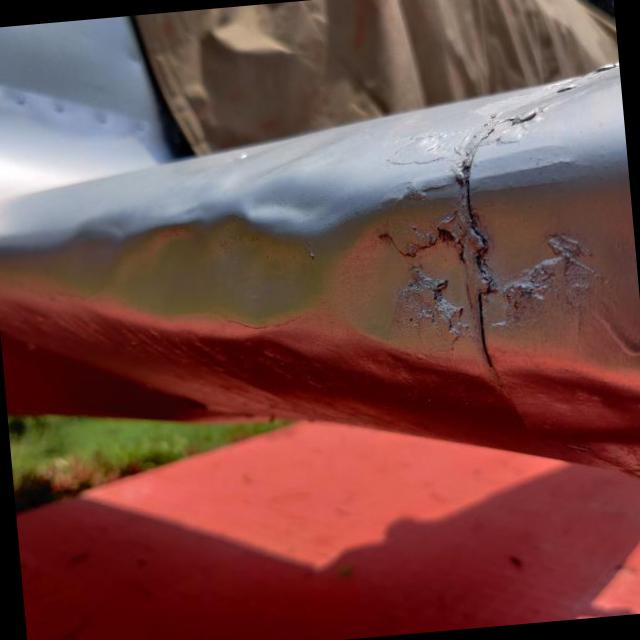Dent: (78, 215, 330, 324)
